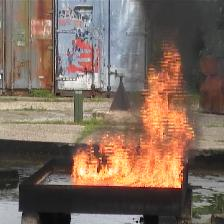fire: (74, 145, 182, 188), (148, 64, 181, 142)
smoke: (152, 2, 196, 40)
